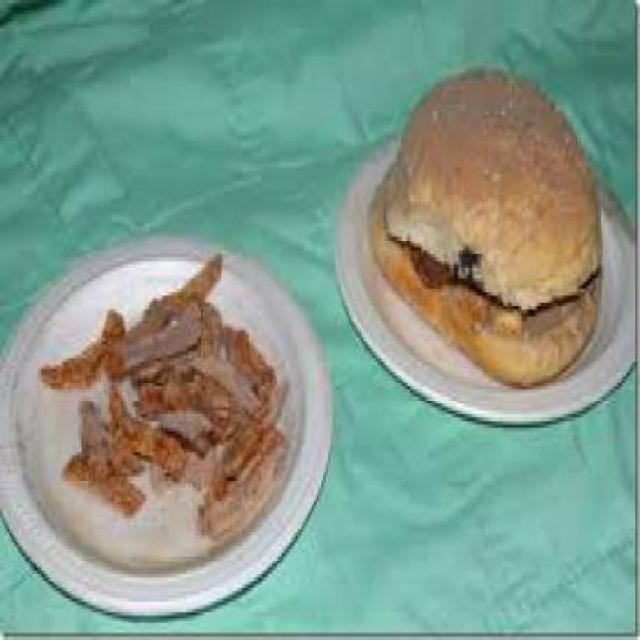french fries: (32, 243, 286, 546)
hamburger: (366, 49, 606, 396)
